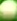white: (0, 0, 17, 21)
